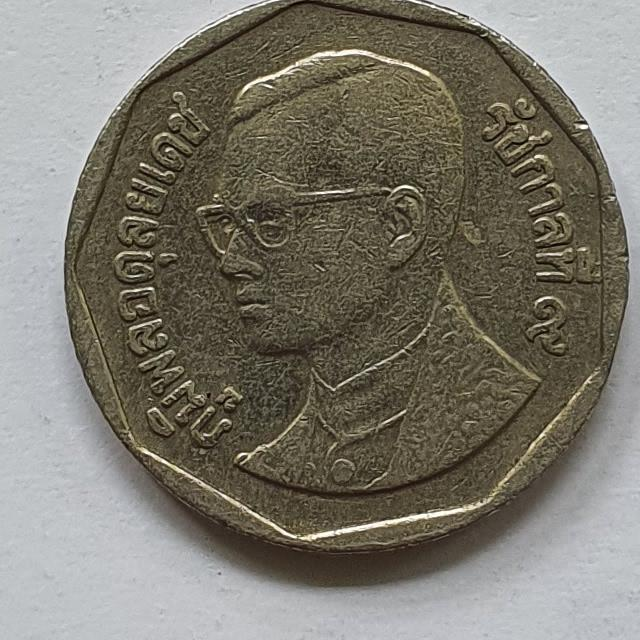5 Bath: (58, 1, 640, 570)
